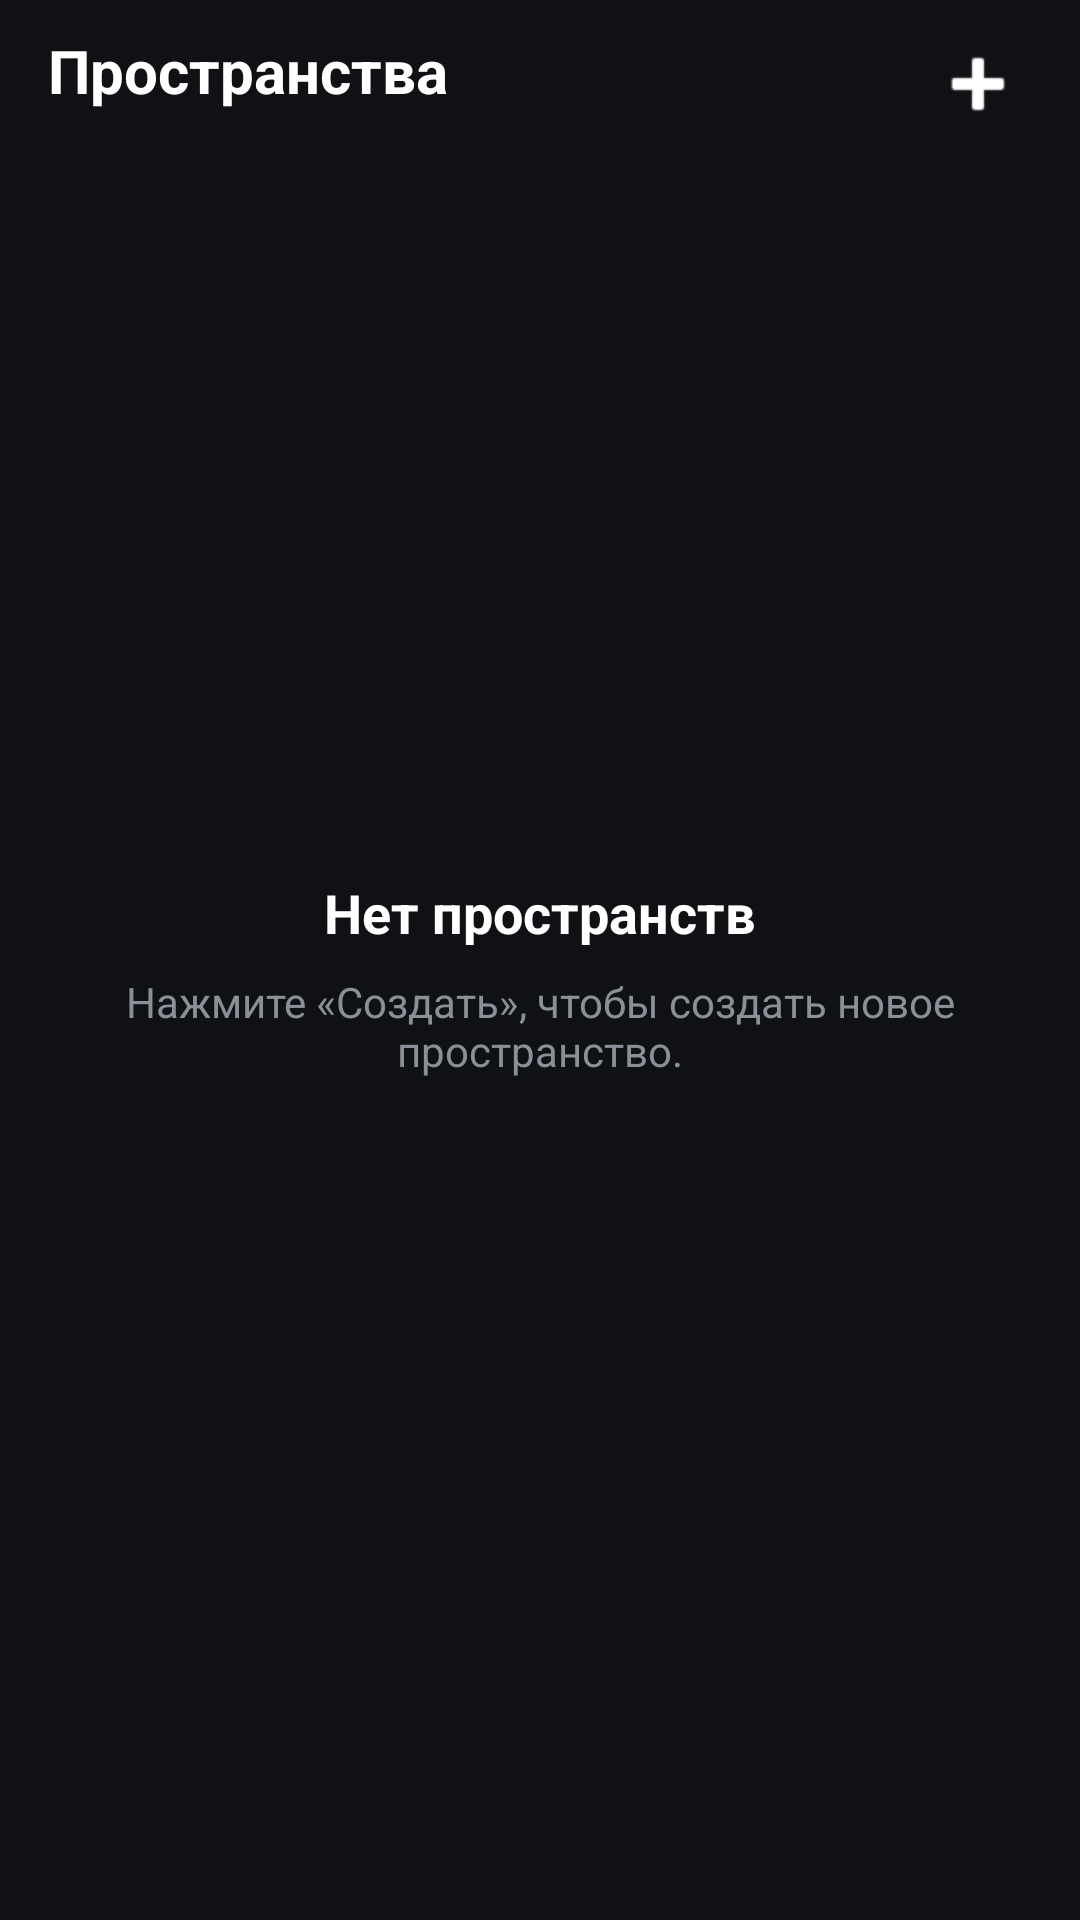

Screen size 1080px x 1920px. Icon name, then its box in pixels as [x1,y1,x2,y2]:
add: [951,57,1005,111]
